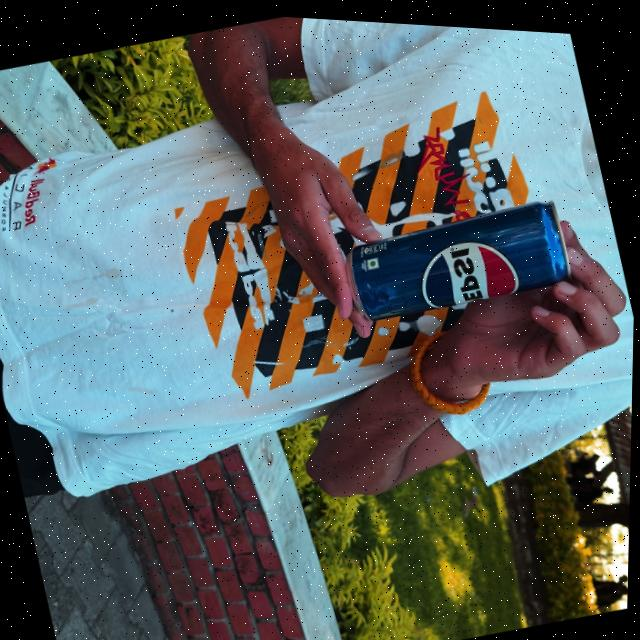Pepsi: (341, 182, 582, 330)
